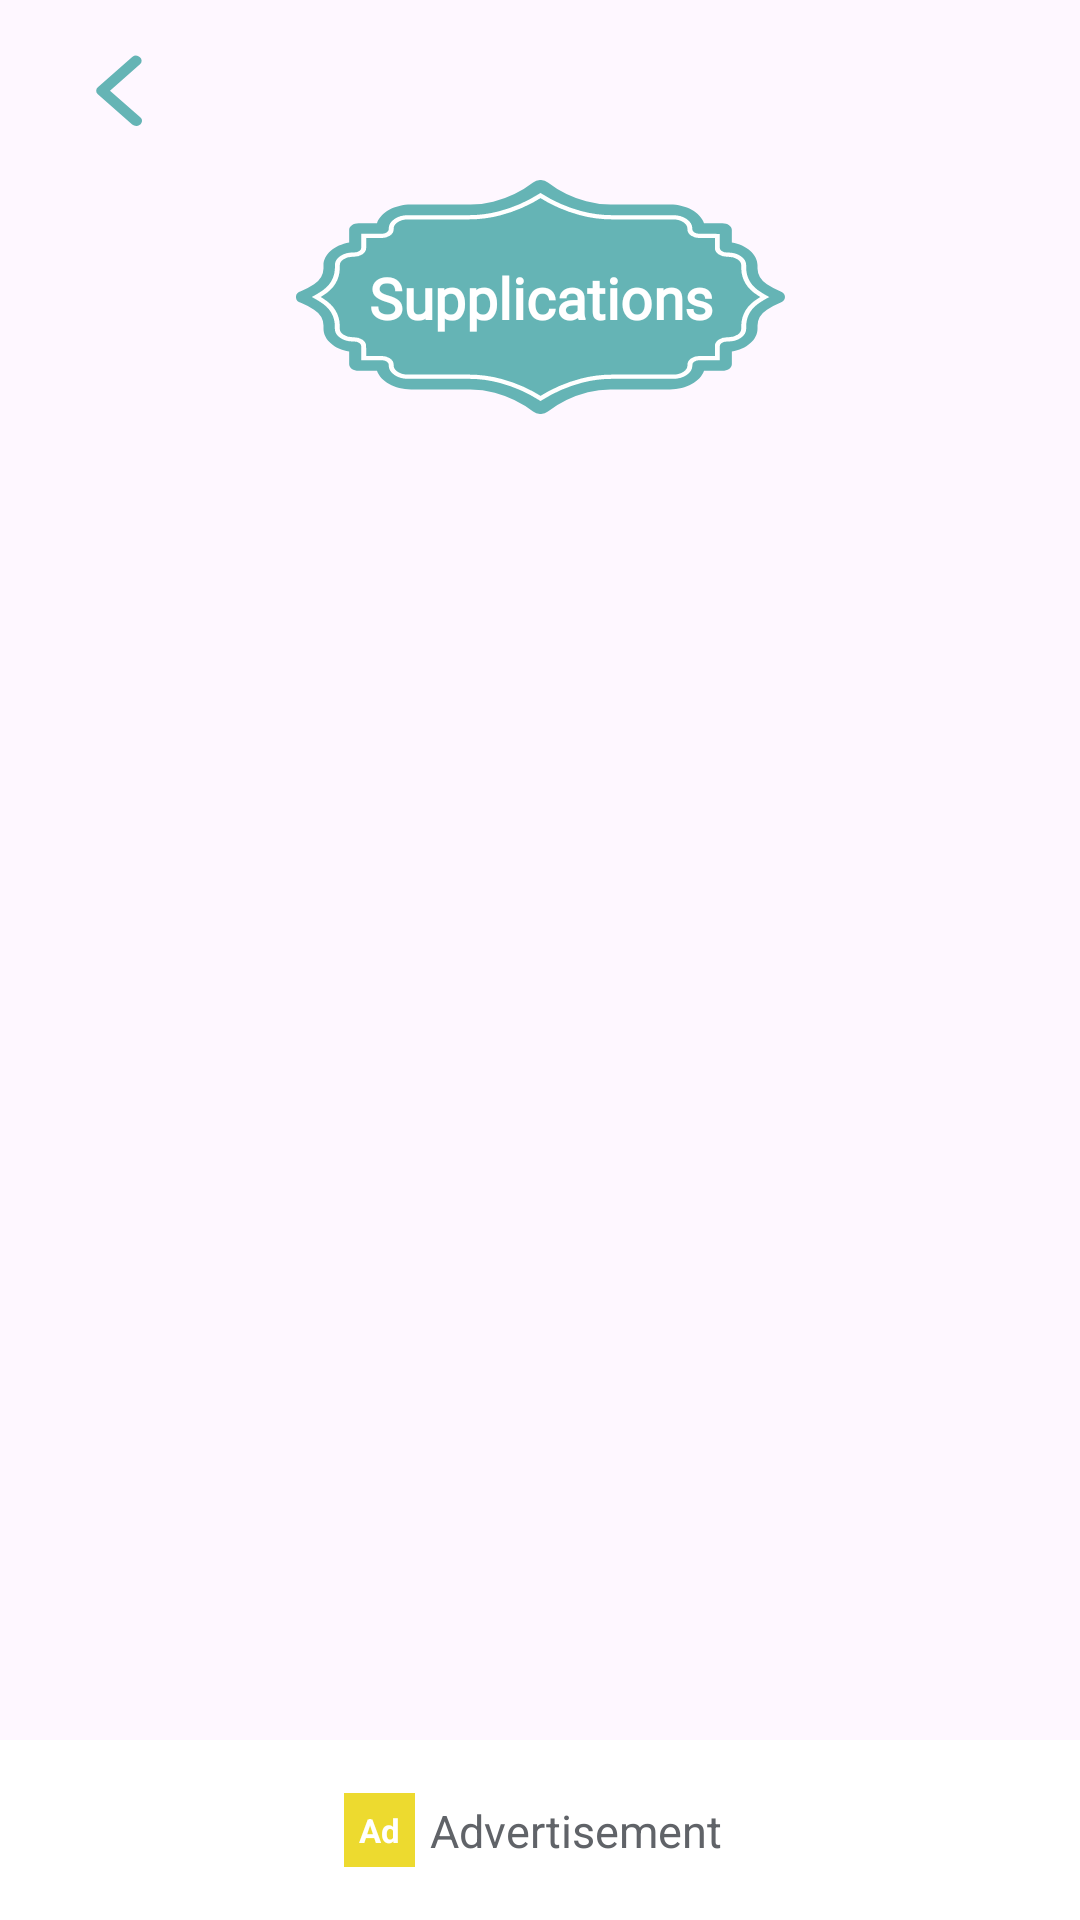

Where to tap for icons on this 1080x1920 app screen, as (x,y):
previous: (119,90)
